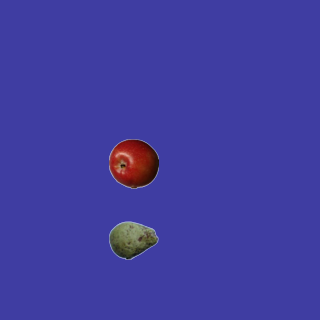Apple Braeburn: (108, 138, 158, 188)
Pear Stone: (108, 215, 158, 265)
